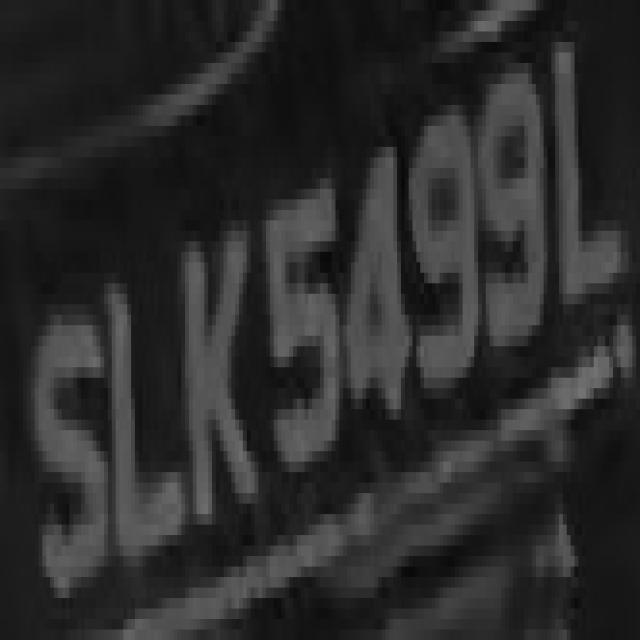4: (324, 105, 409, 472)
5: (262, 137, 343, 493)
9: (397, 84, 478, 430), (474, 31, 548, 346)
K: (170, 158, 258, 588)
L: (93, 231, 181, 587), (540, 31, 632, 346)
S: (27, 273, 104, 598)
